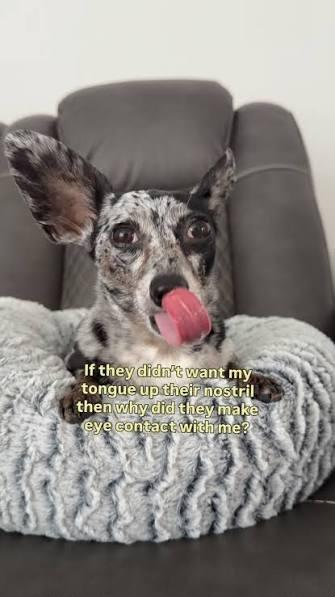adult_dog: (4, 130, 282, 424)
